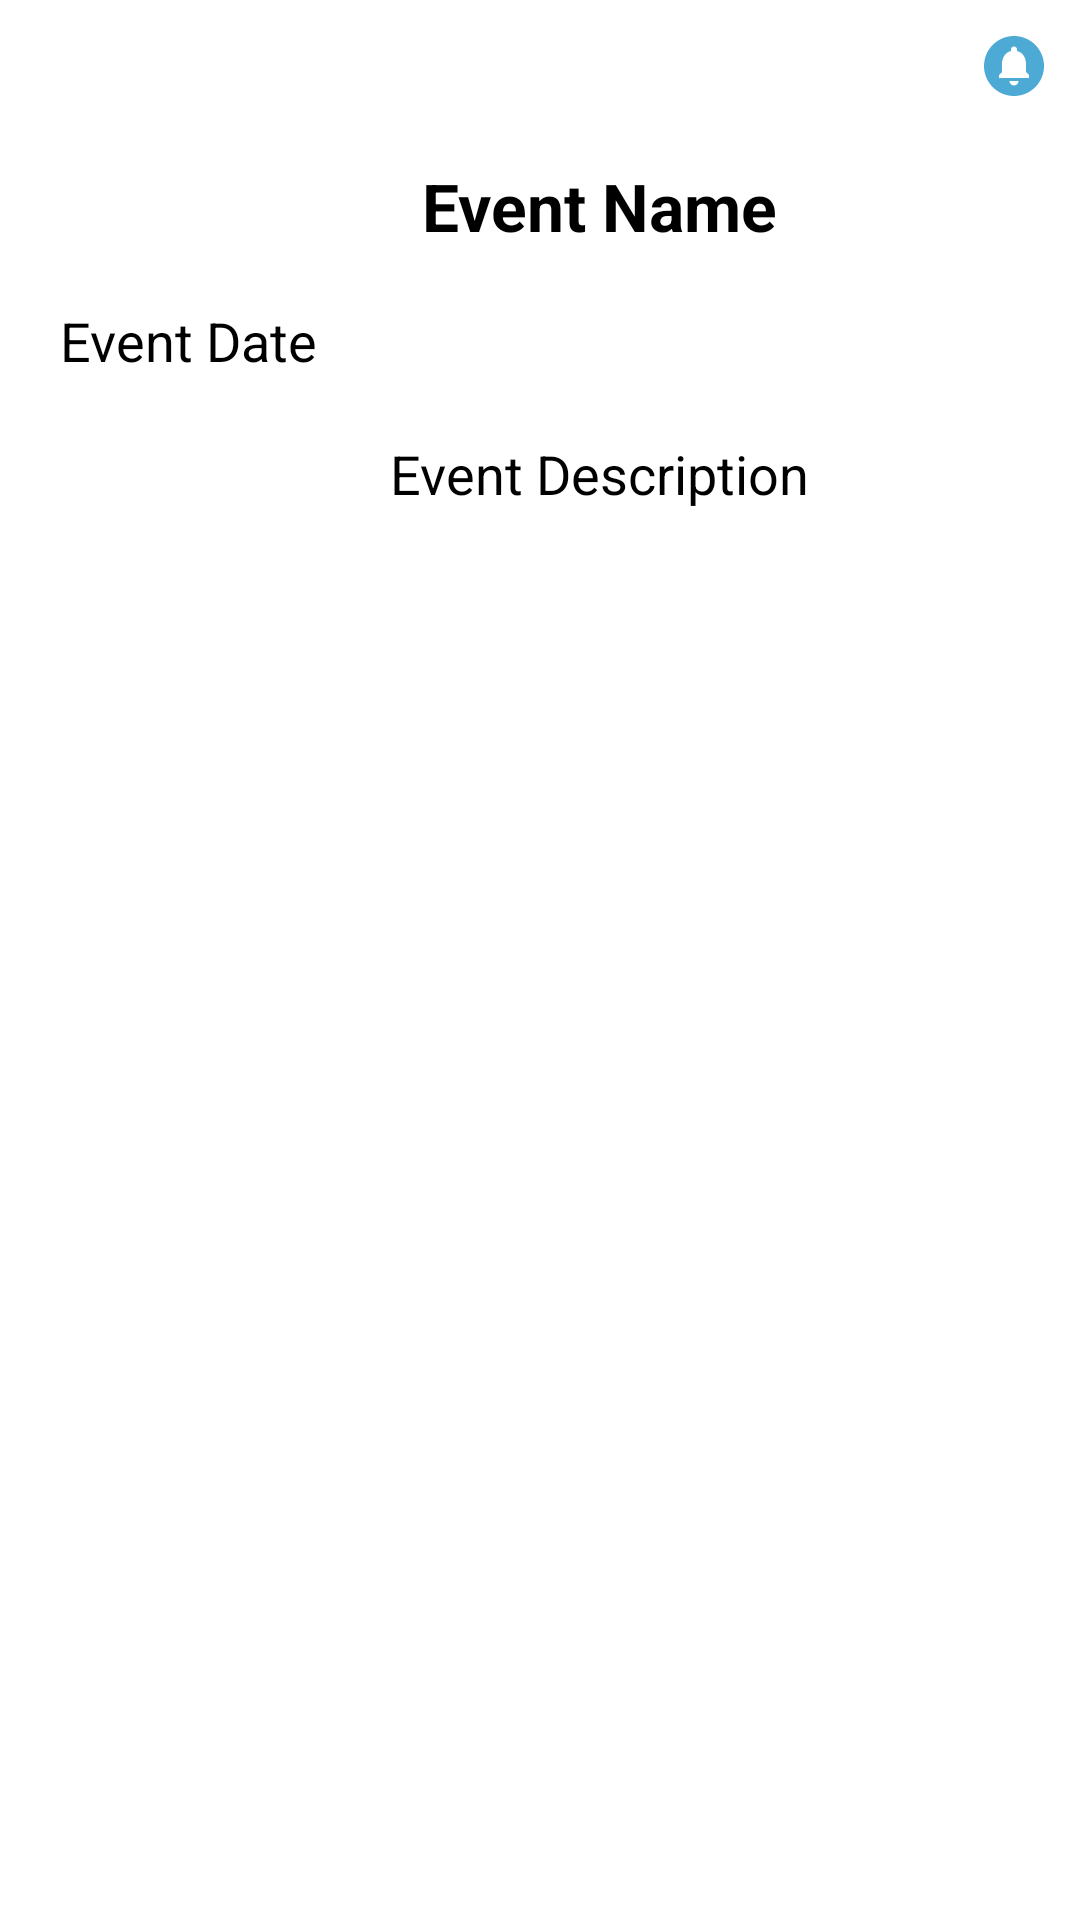

Icons on this 1080x1920 Android screen, each with the point to tap as (x=x, y=y):
circle notifications: (x=1014, y=66)
